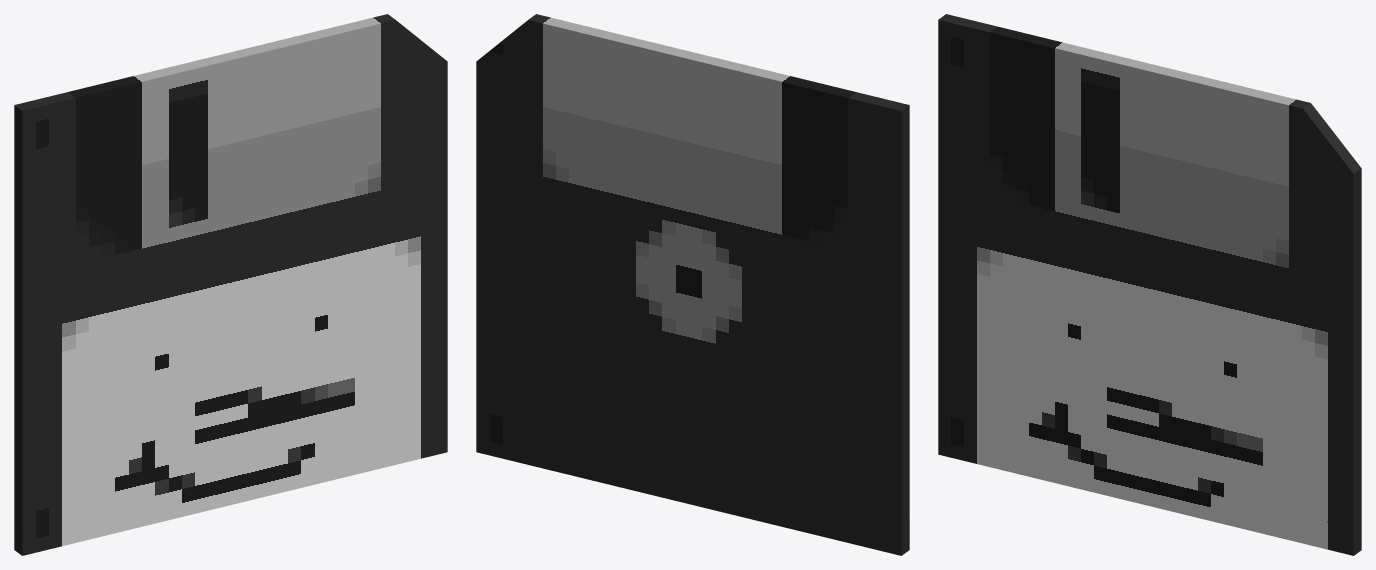
Rendered from flp.fbx.
3 renders of one model, left to right at view 1: azimuth 30°, elevation 25°; view 2: azimuth 150°, elevation 25°; view 3: azimuth 330°, elevation 25°, orthographic. The views are drawn at different scales.
Visible parts, largest first — view 1: Cube; view 2: Cube; view 3: Cube.
Part boxes in pixels (x1,y1,x2,y2): Cube: (14,14,447,555); Cube: (476,14,909,555); Cube: (938,14,1361,555).
Size of the model in its own units: 200 by 200 by 6.61.
